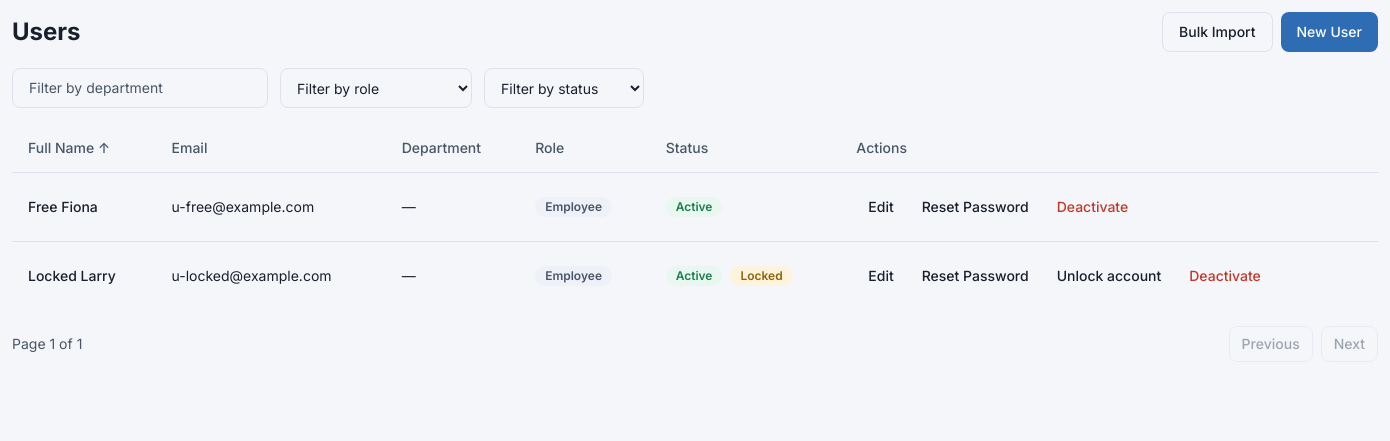
Scenario: UsersListPage reset password errors (ISS-226) › shows the not-allowed message on 403
This screenshot has width=1390, height=441.
expect the text "Free Fiona" is shown: met, box [12,172,156,241]
Click the button "Reset Password" in the row of "Free Fiona" at (975, 206), box [910,188,1041,224]
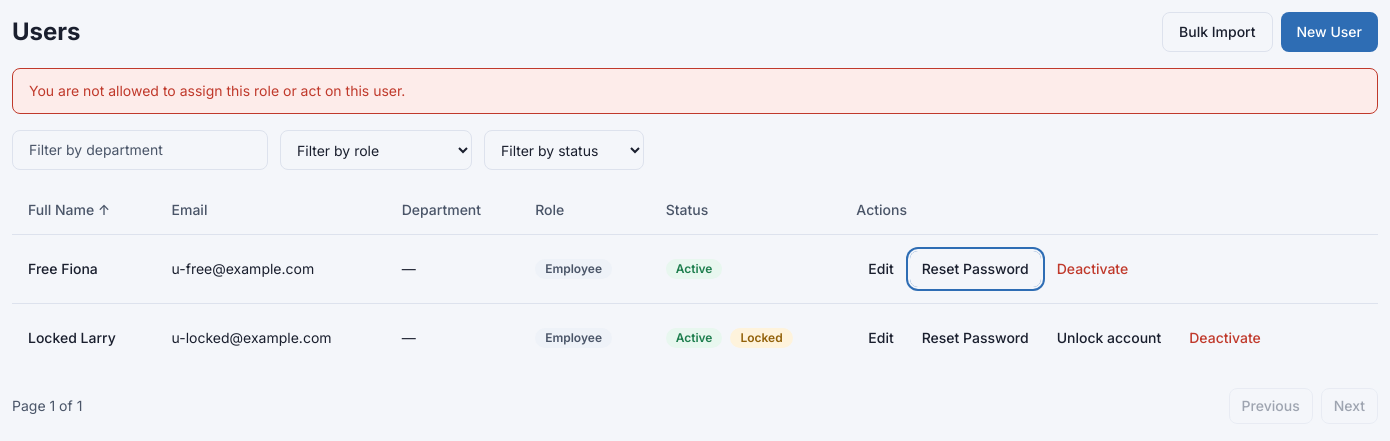
expect the message shows "not allowed": met, box [29,82,405,99]
